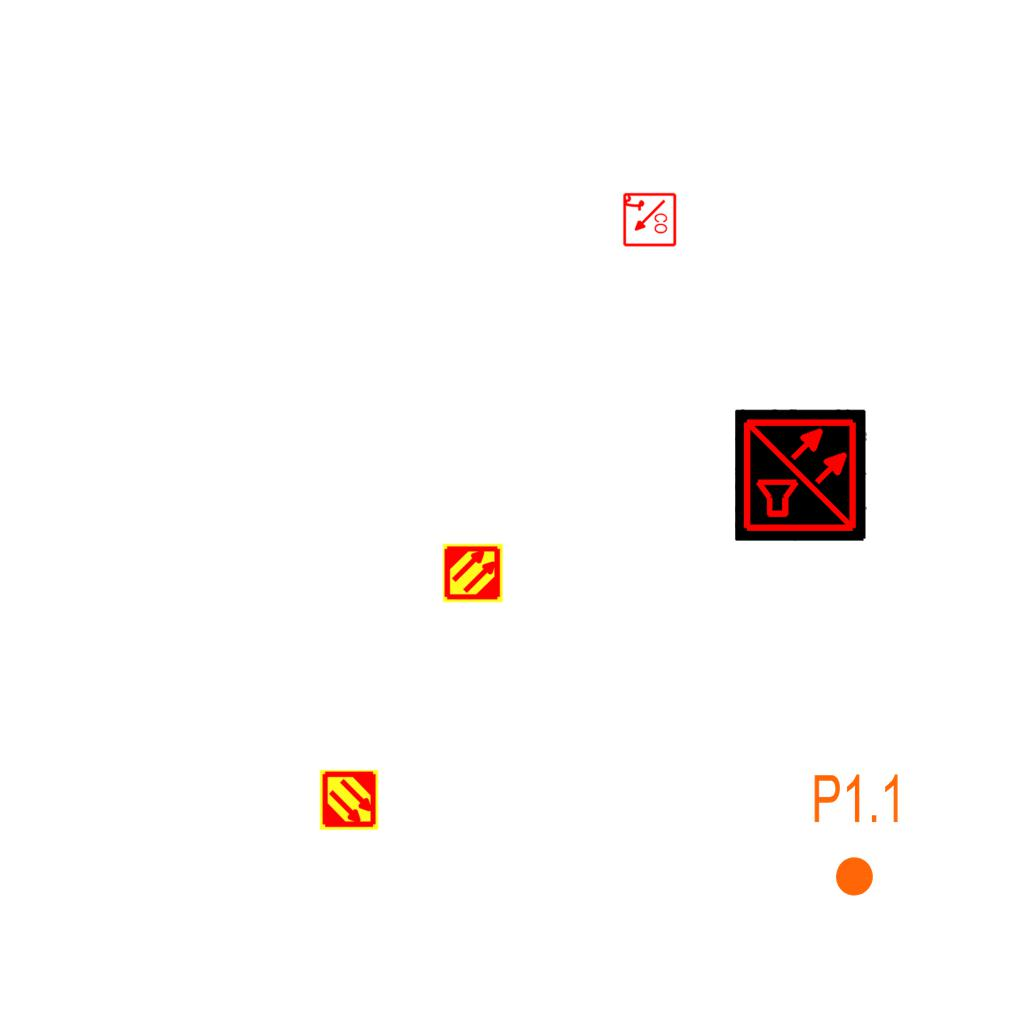ASR_Ansaugrauchmelder: (442, 542, 504, 604), (318, 769, 380, 831)
Downlight_LED_Einbauleuchten_Flur: (811, 771, 904, 899)
OKW_Multisensormelder_(Kombination_optischer_Rauch-Kahlenmonoxid_Waerme-Melder): (735, 409, 867, 541)
ROA_Rauchmelder_optisch_mit_Signalgeber_(Sockelsirene): (621, 192, 677, 248)
